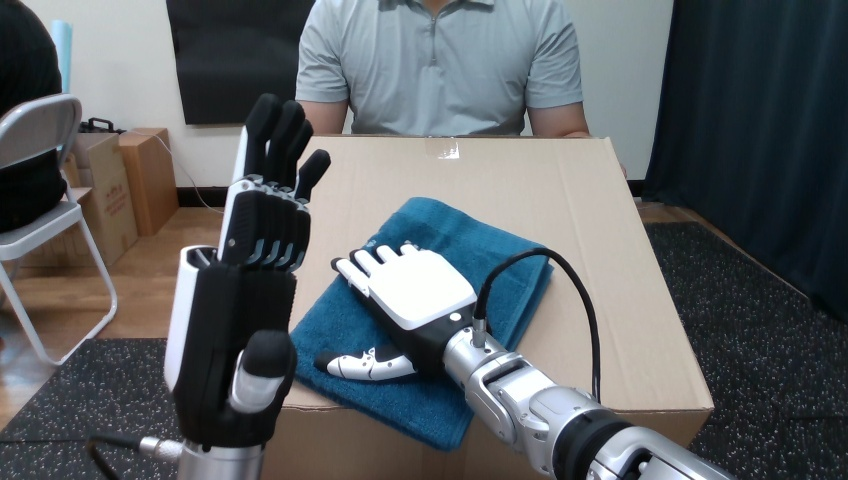left robot hand: (316, 243, 730, 479), (87, 94, 329, 479), (484, 254, 593, 396)
